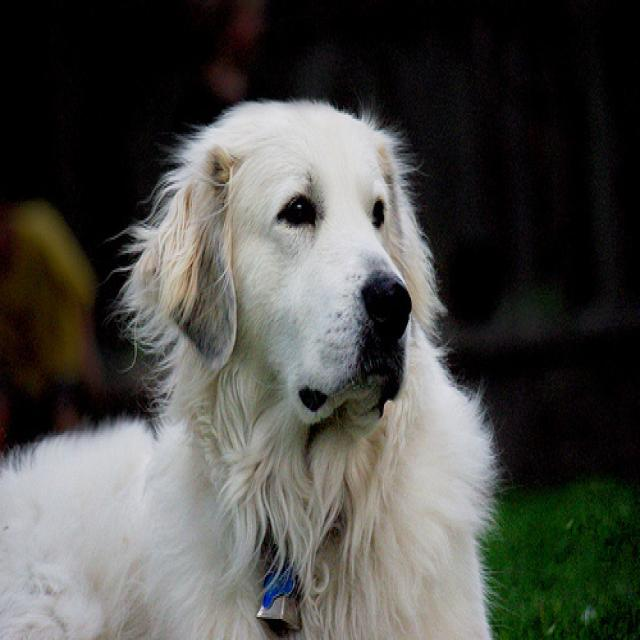dog-great_pyrenees: (1, 88, 512, 636)
